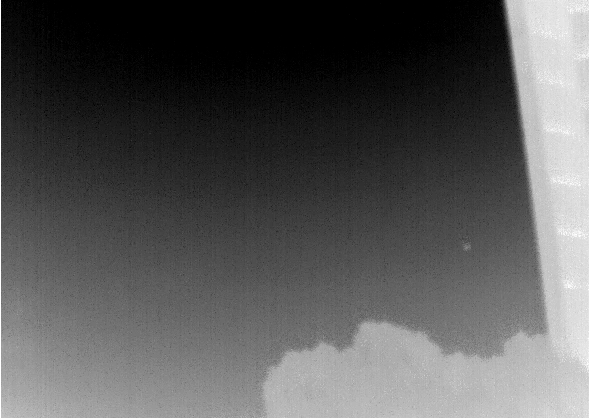dim target: (462, 240, 471, 251)
